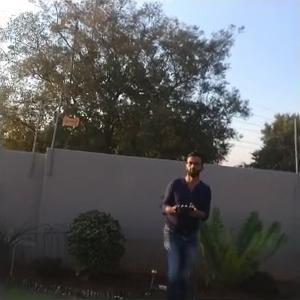follow: (151, 143, 212, 298)
